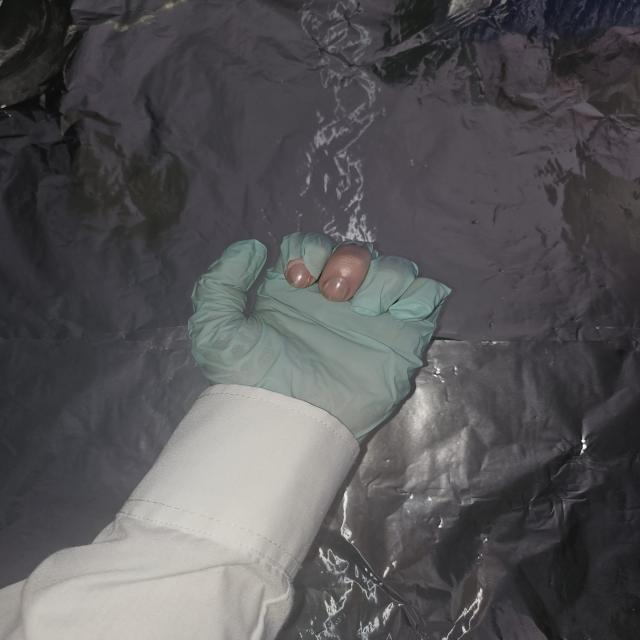gloves_damaged: (187, 230, 458, 446)
